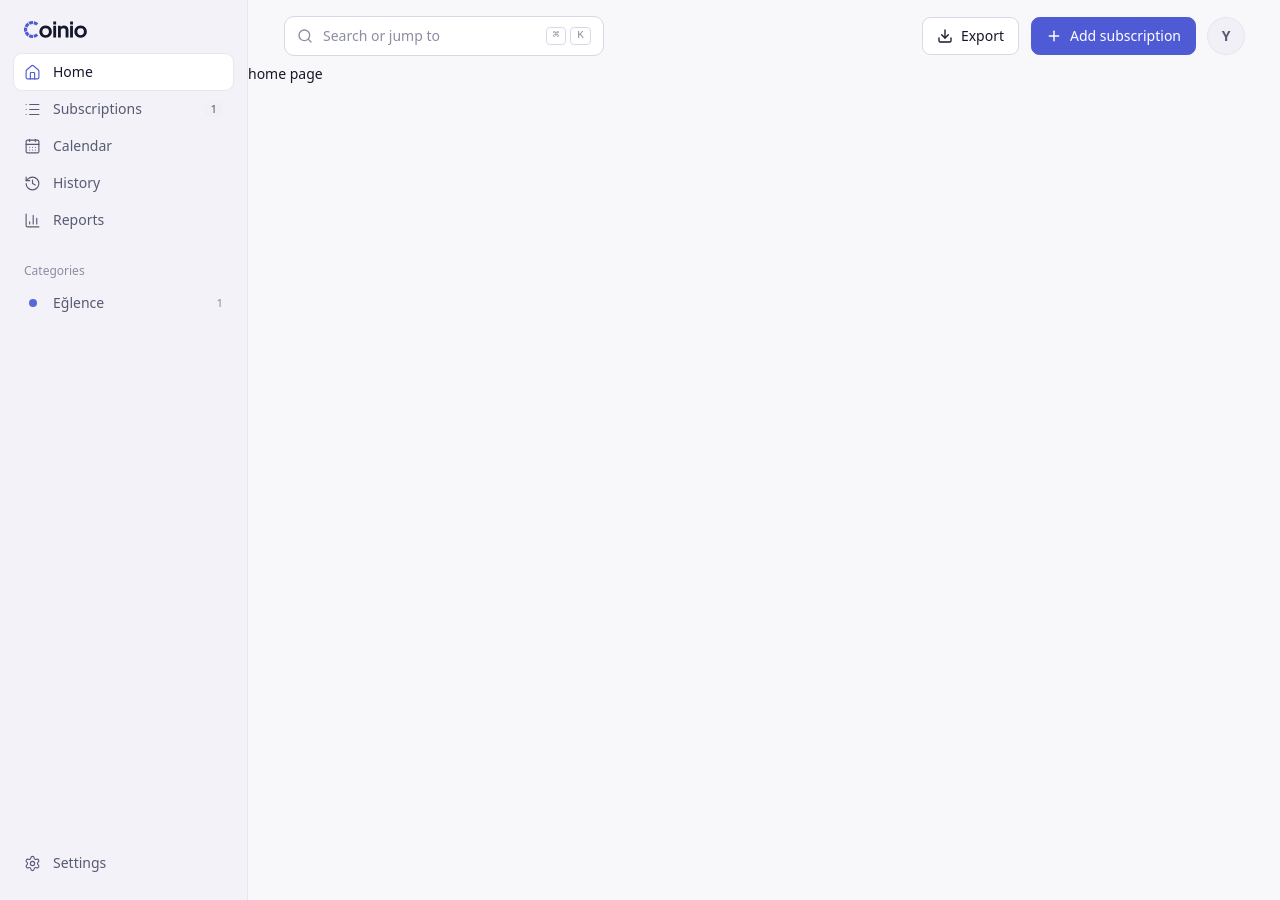
Test case: AppShell › Ctrl+K opens command menu and navigates to settings
Type keys "{Control>}k{/Control}"
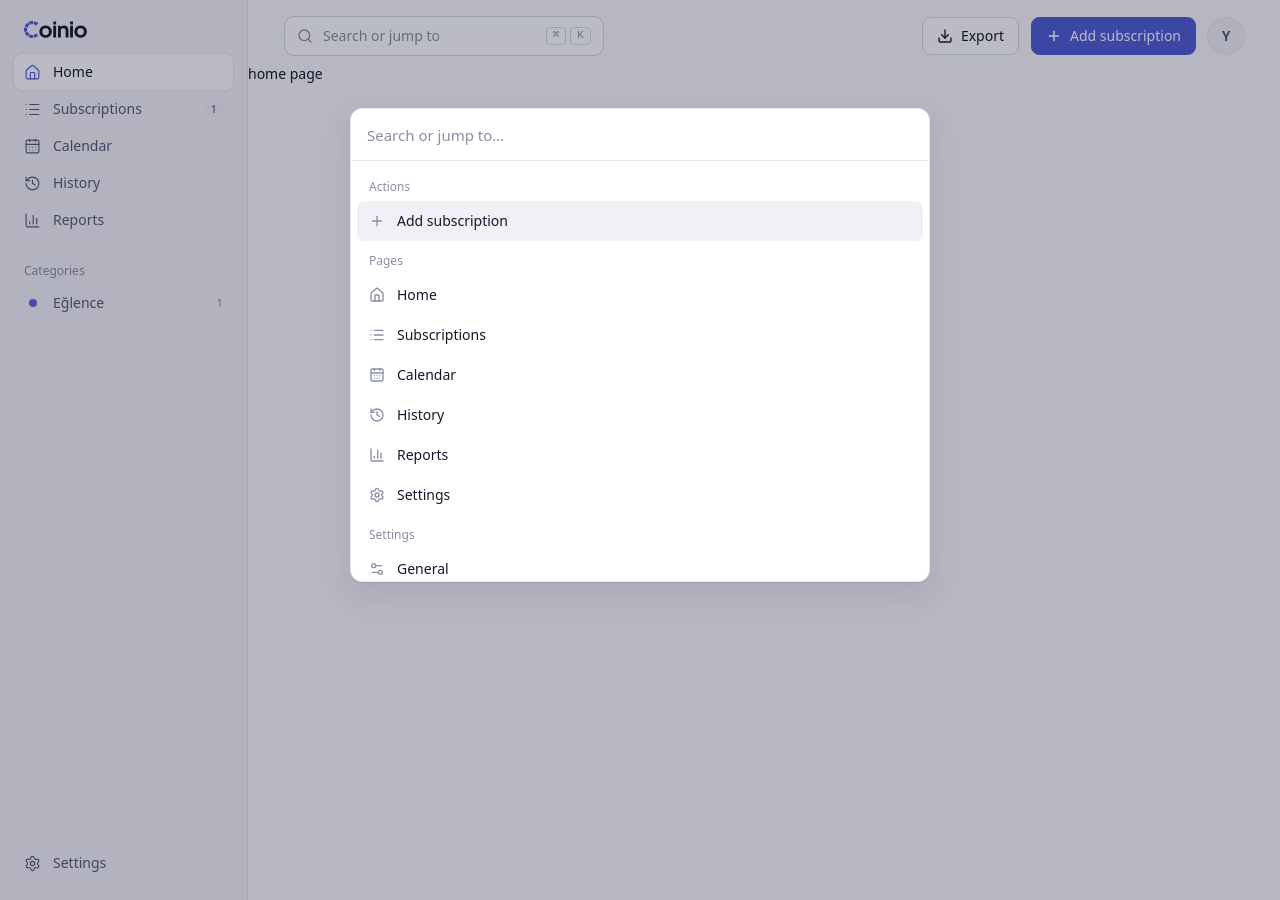
Type "settings" into the dropdown with placeholder "Search or jump to…". click: (640, 135)
box: [351,109,929,161]
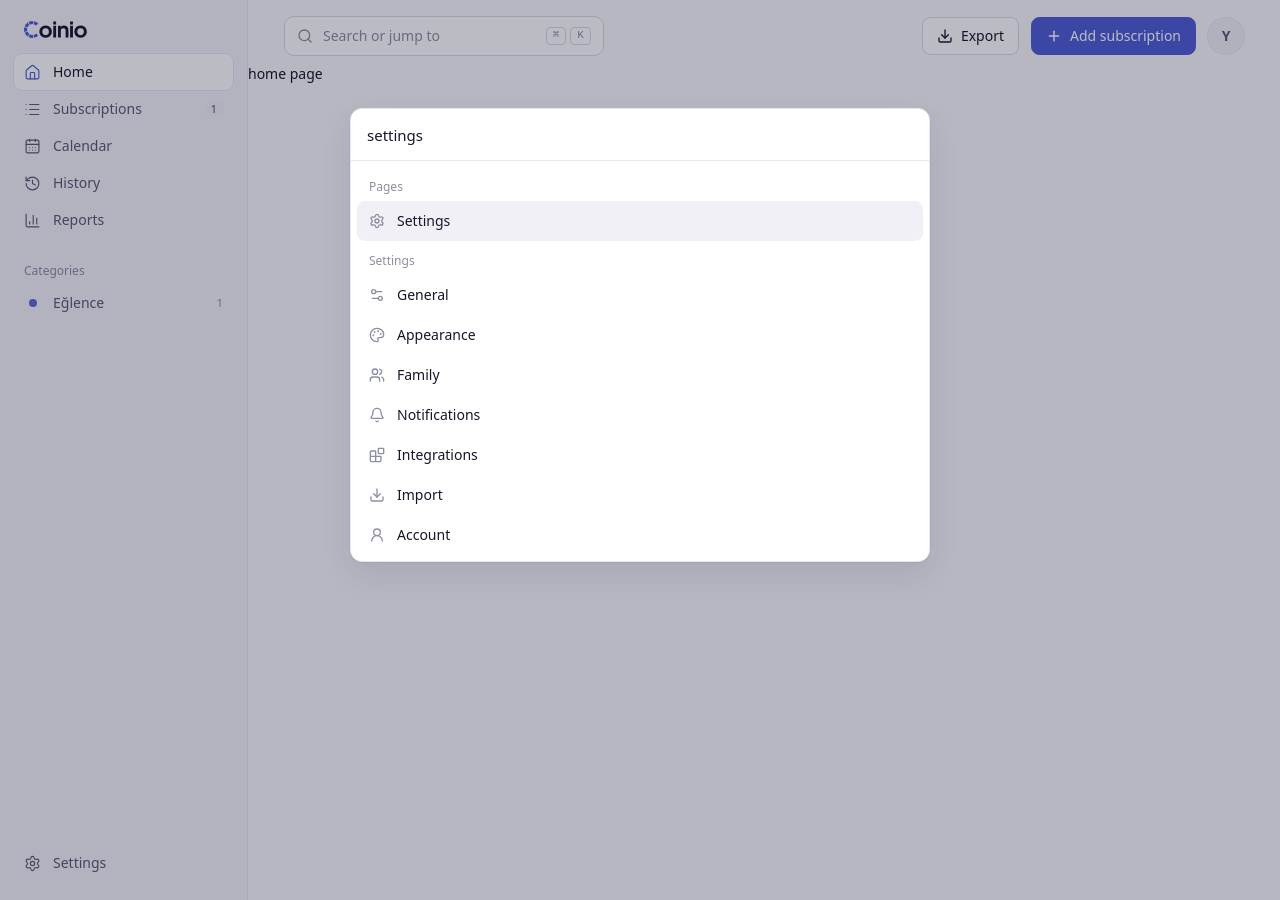
Press Enter
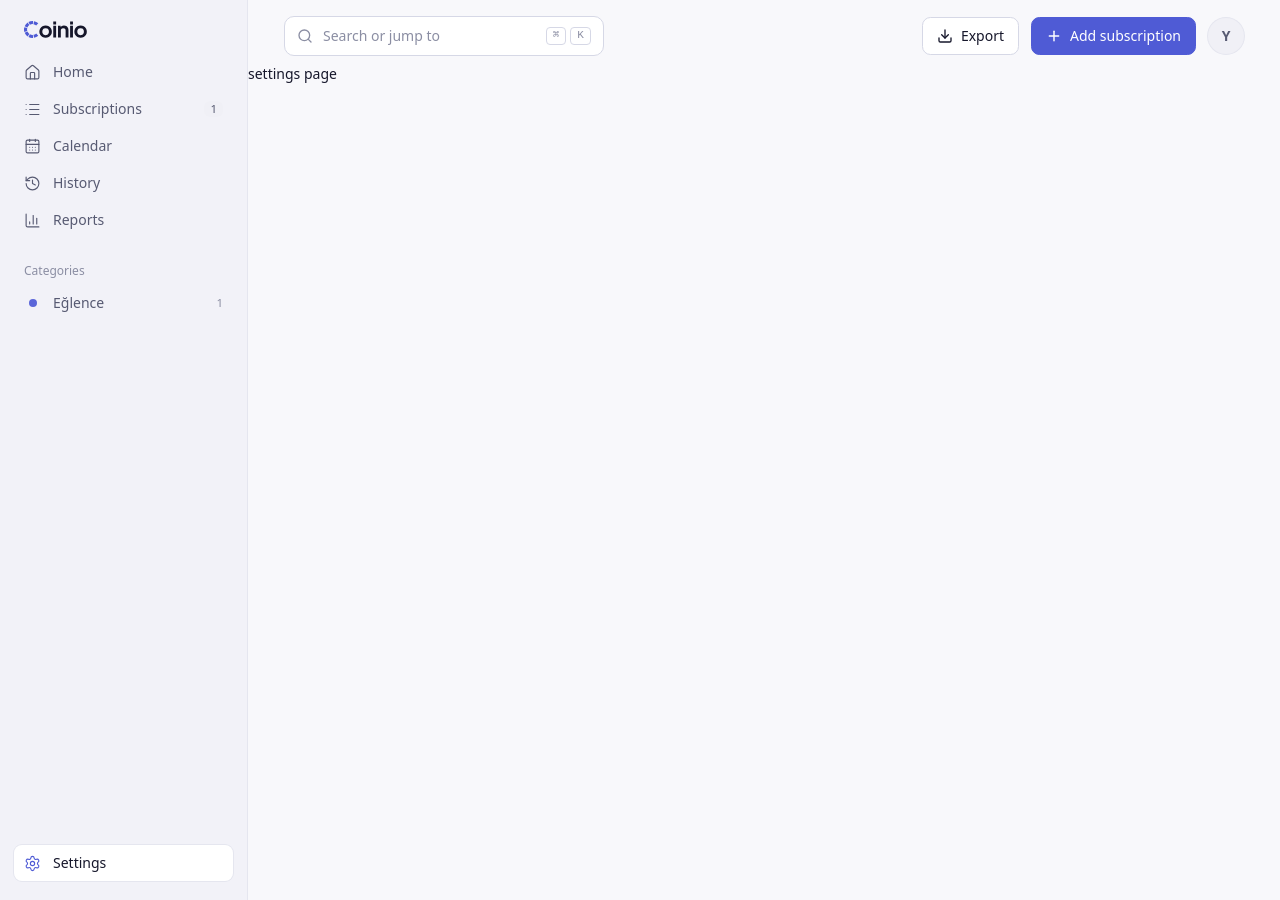
Now the text "settings page" is shown, box [248,64,337,83]
